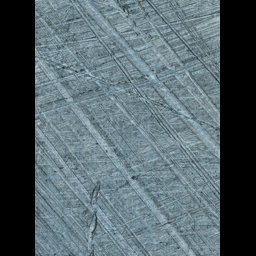d: (79, 178, 105, 255)
